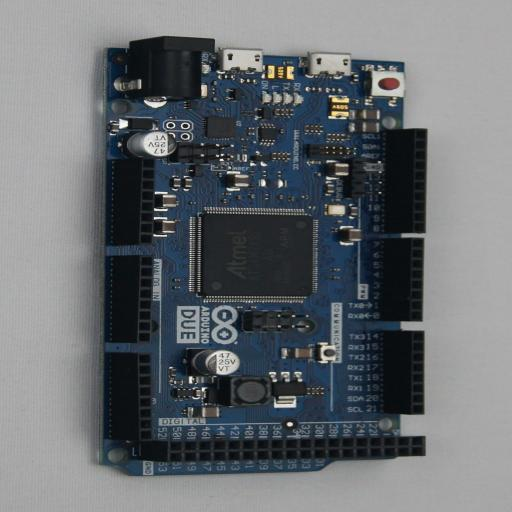Arduino Due: (91, 36, 427, 476)
